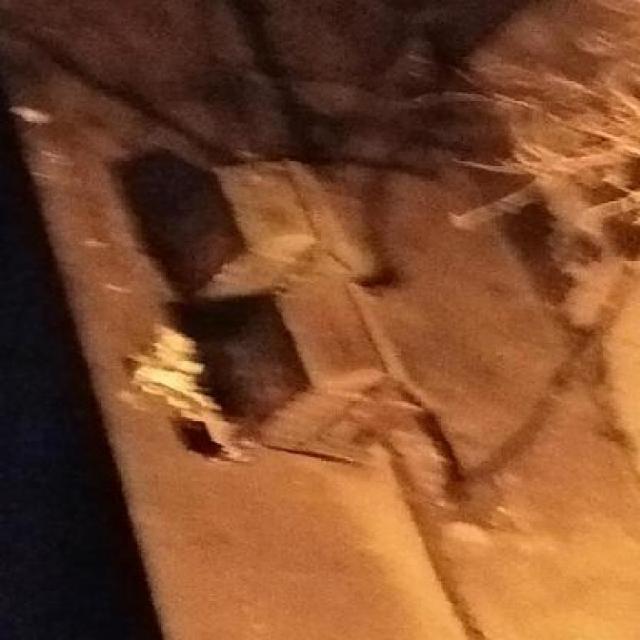garbage: (136, 146, 465, 473), (118, 311, 234, 472)
